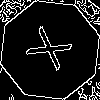X: (25, 25, 82, 77)
